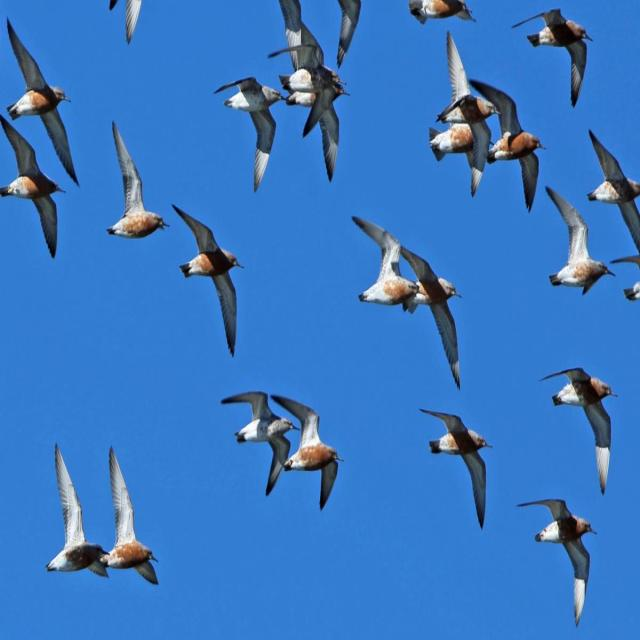bird: (2, 14, 81, 196), (94, 438, 168, 588), (514, 495, 600, 620), (541, 365, 621, 498), (178, 212, 248, 352), (397, 240, 462, 388), (270, 381, 341, 509), (0, 126, 72, 251), (48, 447, 120, 572), (214, 71, 285, 197), (479, 83, 547, 211), (422, 414, 495, 526), (515, 6, 594, 109), (347, 214, 423, 318), (223, 394, 297, 500), (543, 190, 617, 292), (107, 123, 169, 238), (293, 63, 347, 184), (584, 127, 640, 239), (430, 101, 490, 203), (440, 36, 492, 131), (97, 0, 172, 45), (402, 0, 476, 29)
